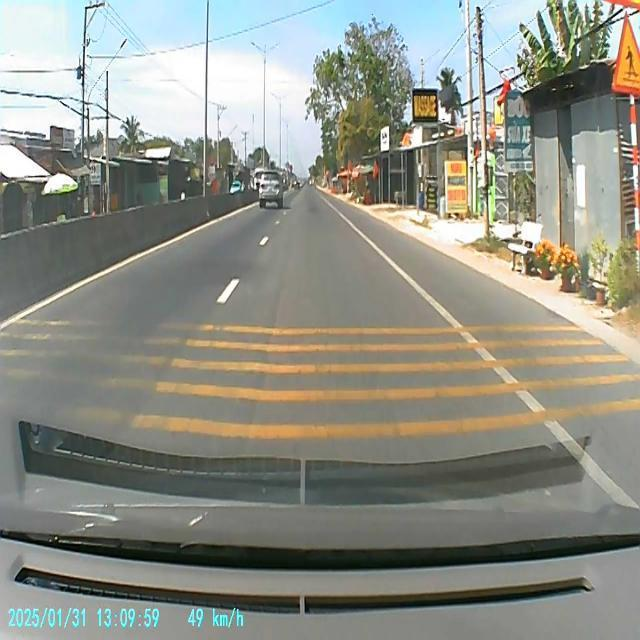224-duong-nguoi-di-bo-cat-ngang: (610, 11, 640, 99)
